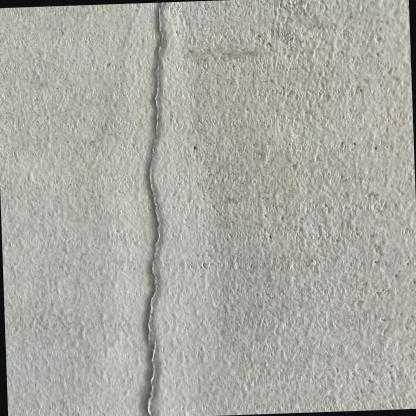crack: (147, 2, 162, 344), (147, 341, 156, 416)
